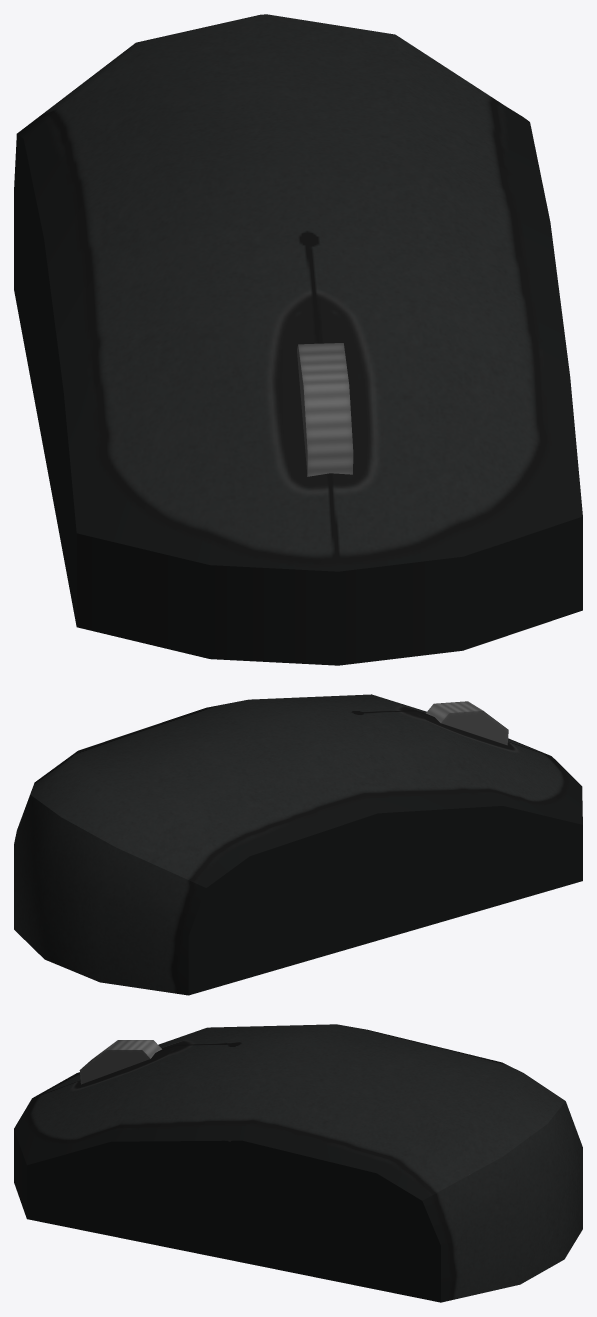
File: mouse.glb
The picture shows the model from 3 angles, top to bottom: view 1: azimuth 30°, elevation 25°; view 2: azimuth 150°, elevation 25°; view 3: azimuth 270°, elevation 25°; orthographic projection. The views are drawn at different scales.
Parts seen in each view (by area): view 1: mouse_geo; view 2: mouse_geo; view 3: mouse_geo.
Part boxes in pixels (x1,y1,x2,y2): mouse_geo: (14,14,582,665); mouse_geo: (14,694,582,995); mouse_geo: (14,1024,582,1302).
Bounding box in the file's own units: 0.068 × 0.027 × 0.0842.
1 material, 1 textured.
